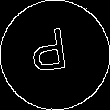P_S: (33, 27, 77, 83)
